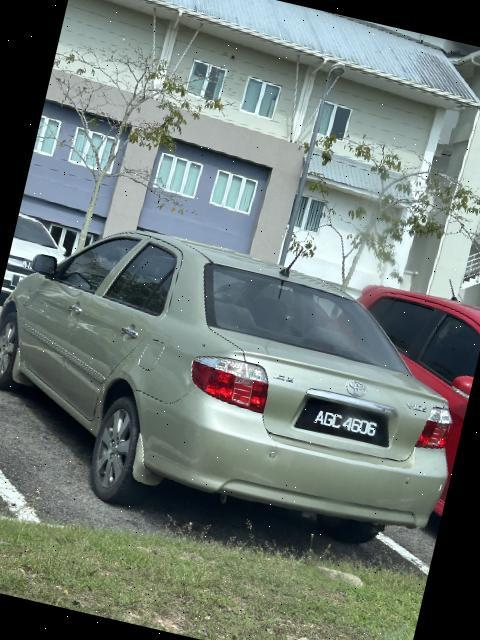AGC4606: (301, 398, 392, 450)
License_Plate: (301, 398, 392, 450)
car: (1, 199, 480, 574)
